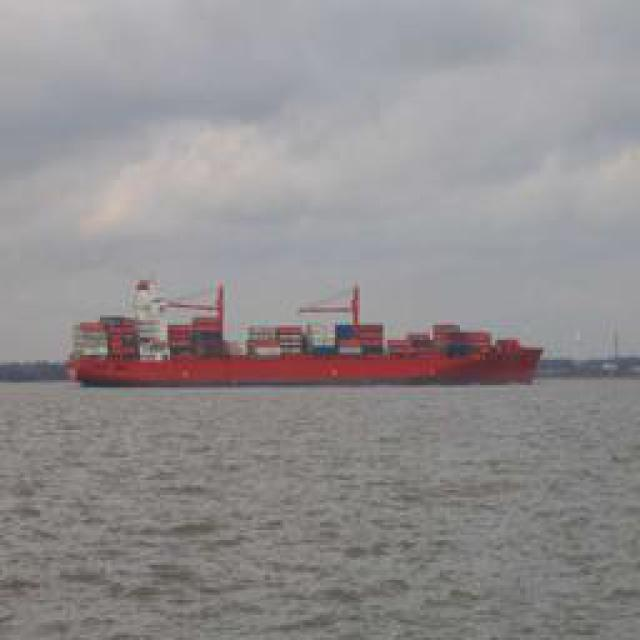Ship: (75, 279, 543, 392)
